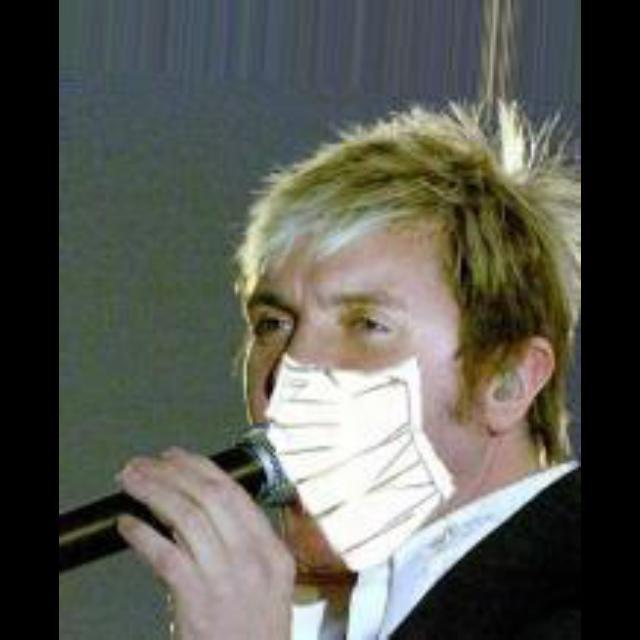suspicion: (219, 161, 536, 577)
